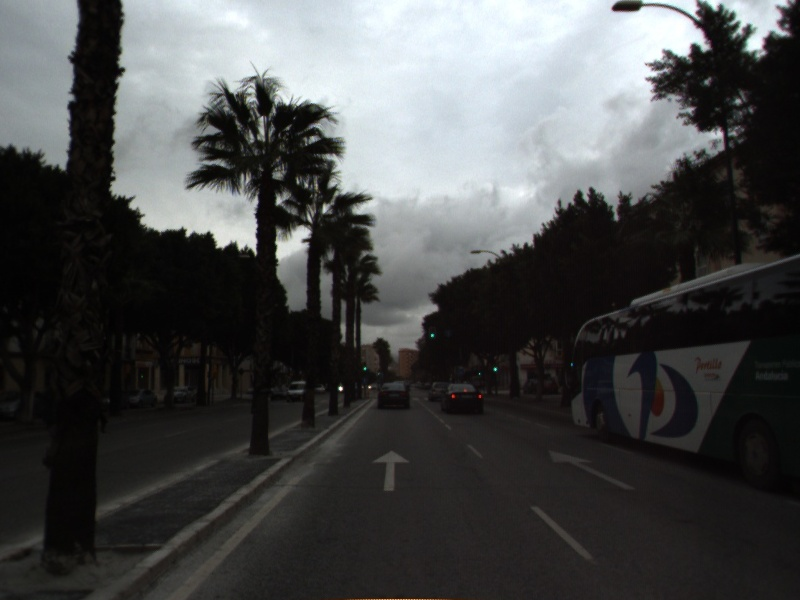STRAIGHT: (546, 448, 637, 493), (370, 448, 412, 493)
